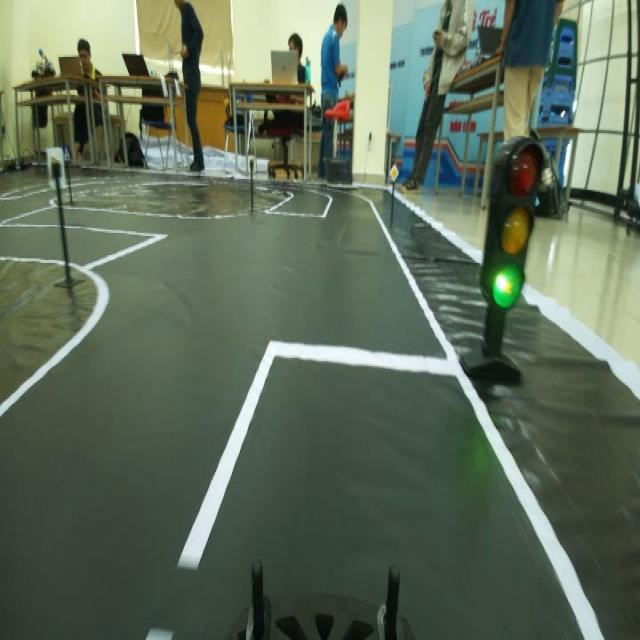trafficlight: (476, 130, 550, 333)
